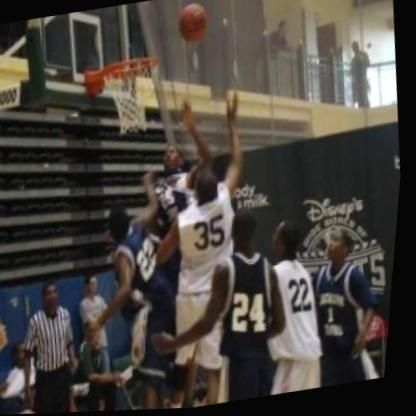basketball: (169, 0, 217, 49)
